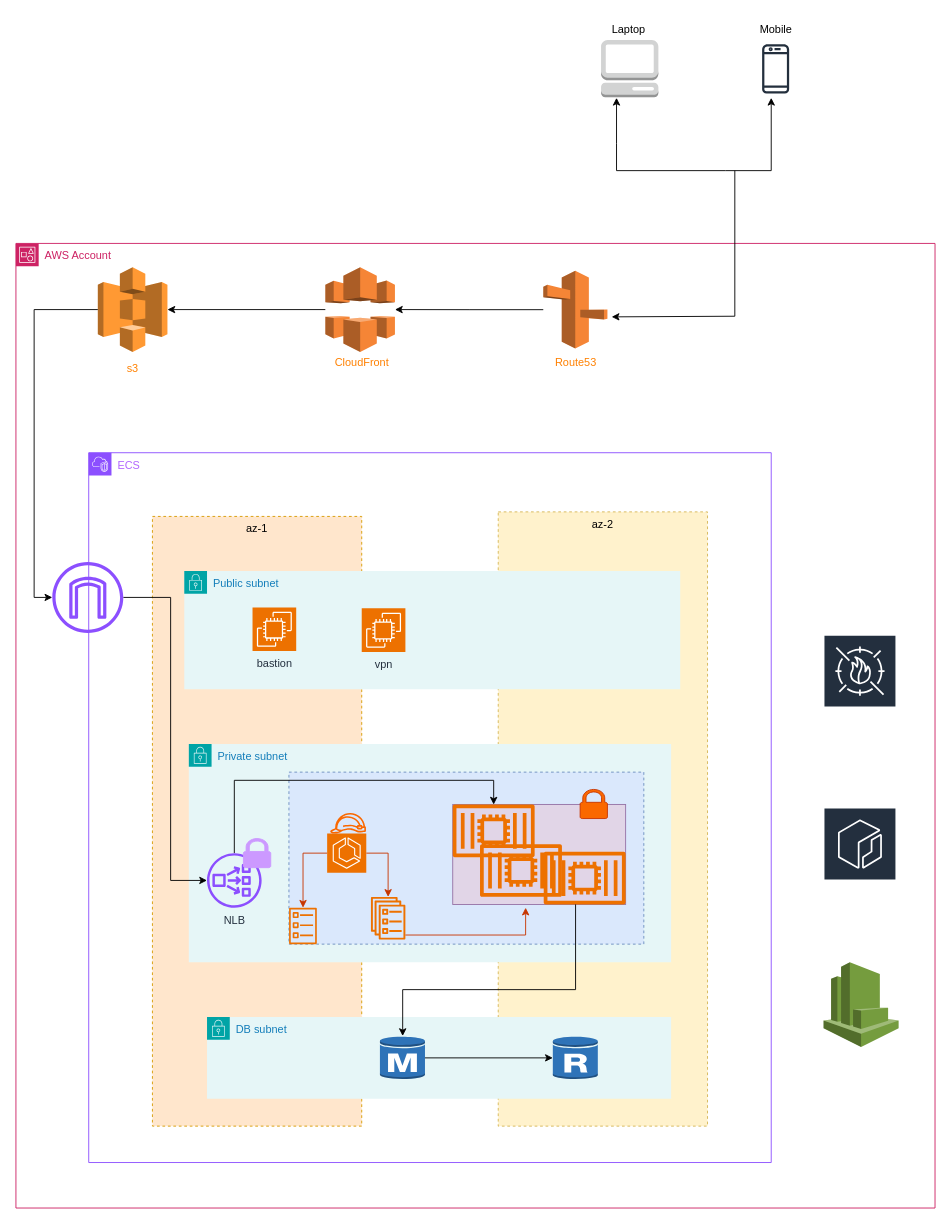
This 951x1224 diagram has some shape labels left out. The shapes that lost their labels are listed below. From the top down, each one's centre as x and y in pixels, then its label:
At (x=859, y=680): "AWS WAF".
At (x=859, y=853): "Amazon ECR".
